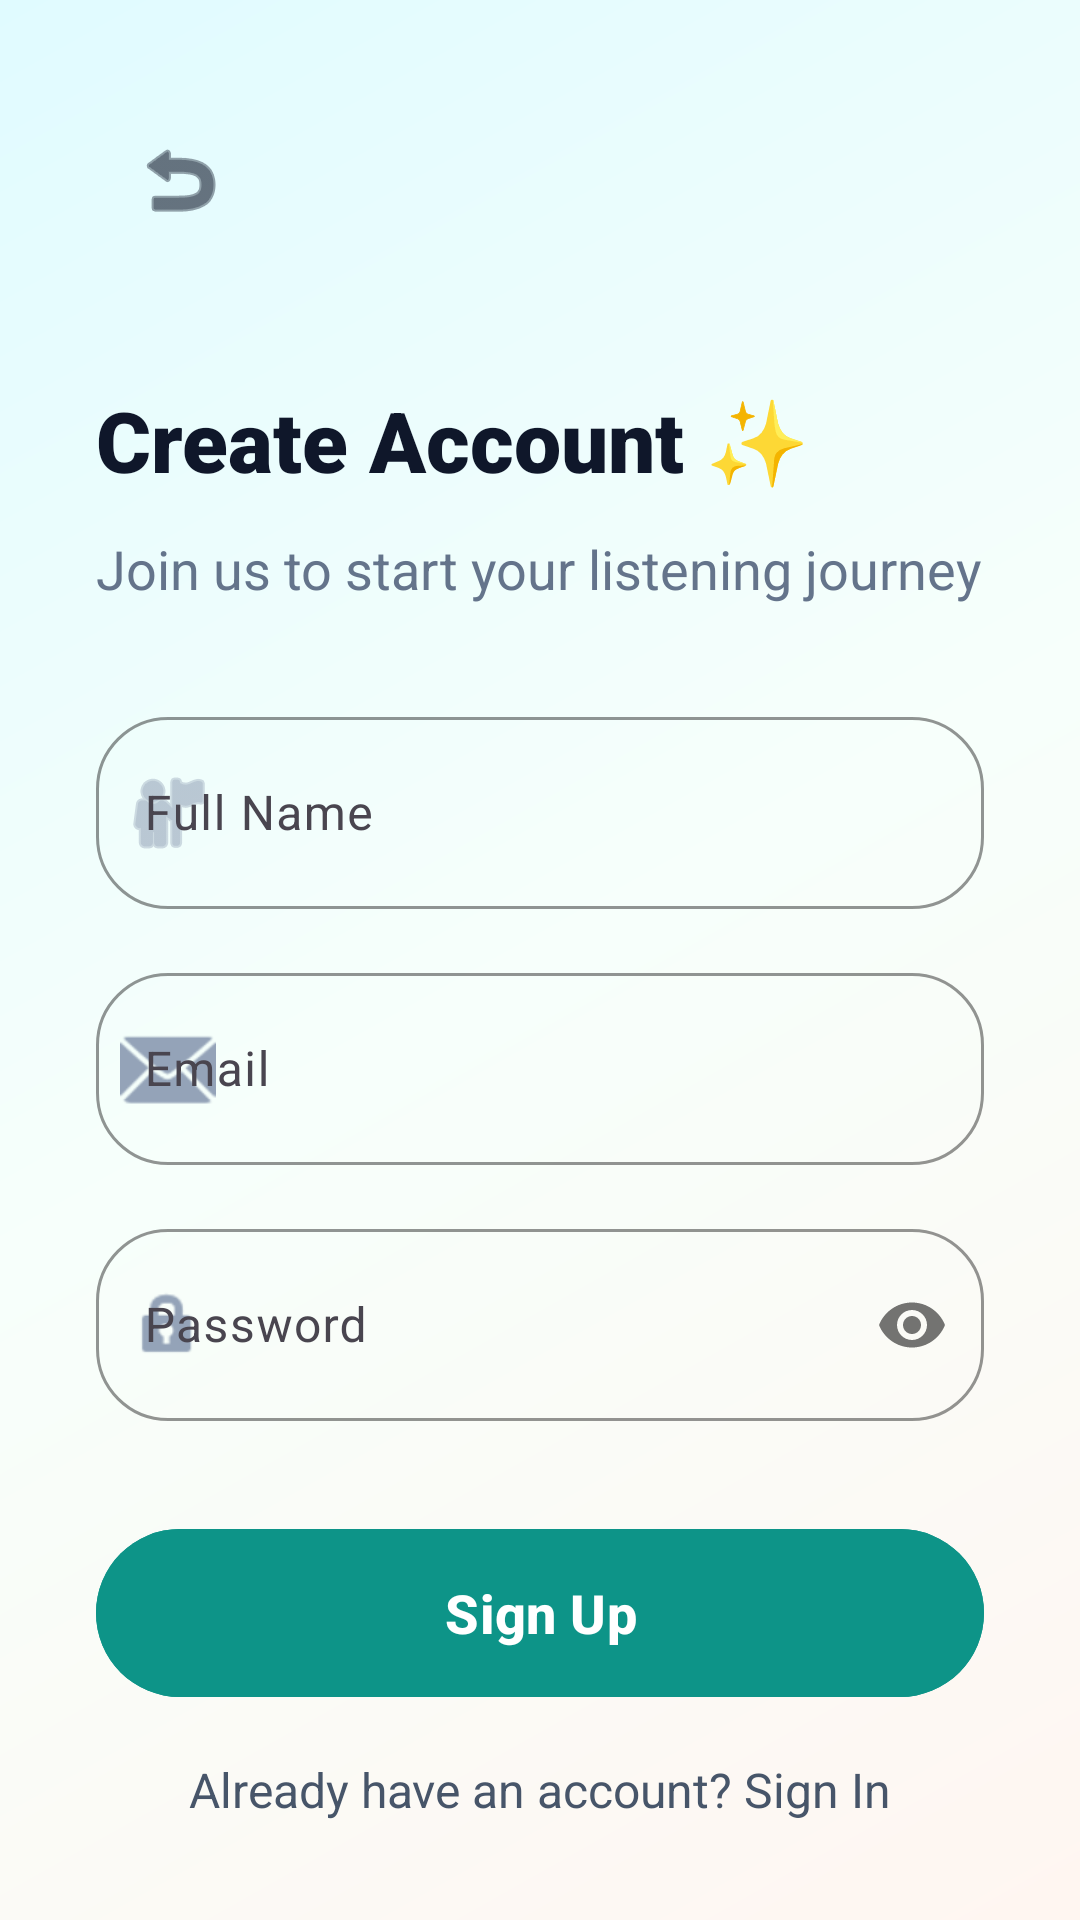

Where to tap for icons on this 1080px×1920px app screen, as (x,y):
Back: (181,180)
